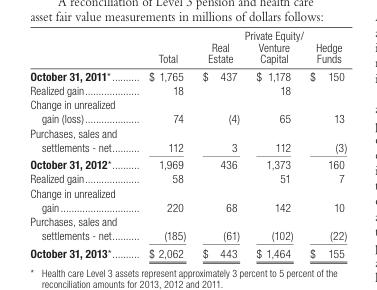table: (29, 28, 346, 259)
table column: (29, 28, 132, 259), (241, 28, 306, 259), (132, 28, 193, 259), (193, 28, 241, 259), (306, 28, 346, 259)
table column header: (29, 28, 346, 67)
table row: (29, 28, 346, 67), (29, 125, 346, 155), (29, 213, 346, 243), (29, 97, 346, 125), (29, 185, 346, 213), (29, 67, 346, 83), (29, 155, 346, 171), (29, 243, 346, 259), (29, 83, 346, 97), (29, 171, 346, 185)
